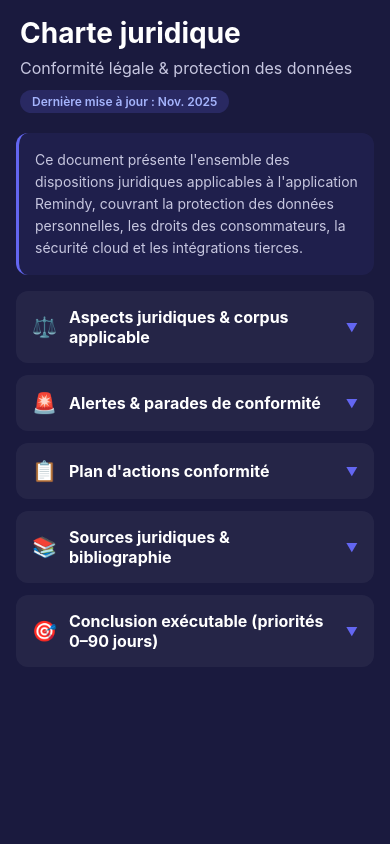
Scenario: LegalScreen › should expand a section when tapped
Expected: the text "Protection des données (UE/FR)" is not shown
# Tap the first section header
Click the element with test id "section-aspects".
click(195, 327)  # box top-left (32, 307), bottom-right (358, 347)
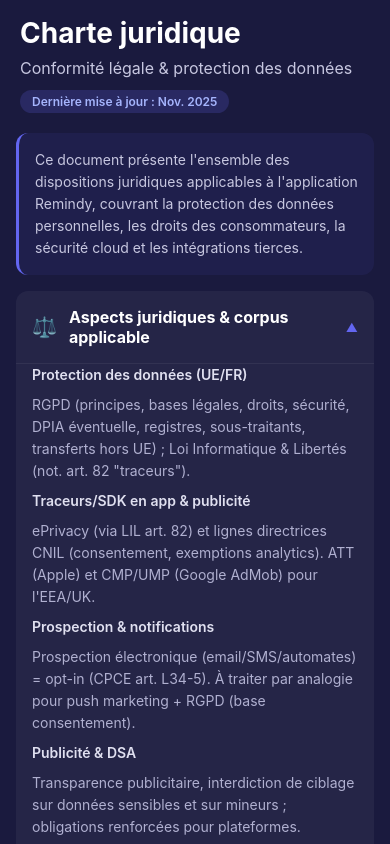
Now the text "Protection des données (UE/FR)" is shown, box top-left (32, 366), bottom-right (248, 383)
